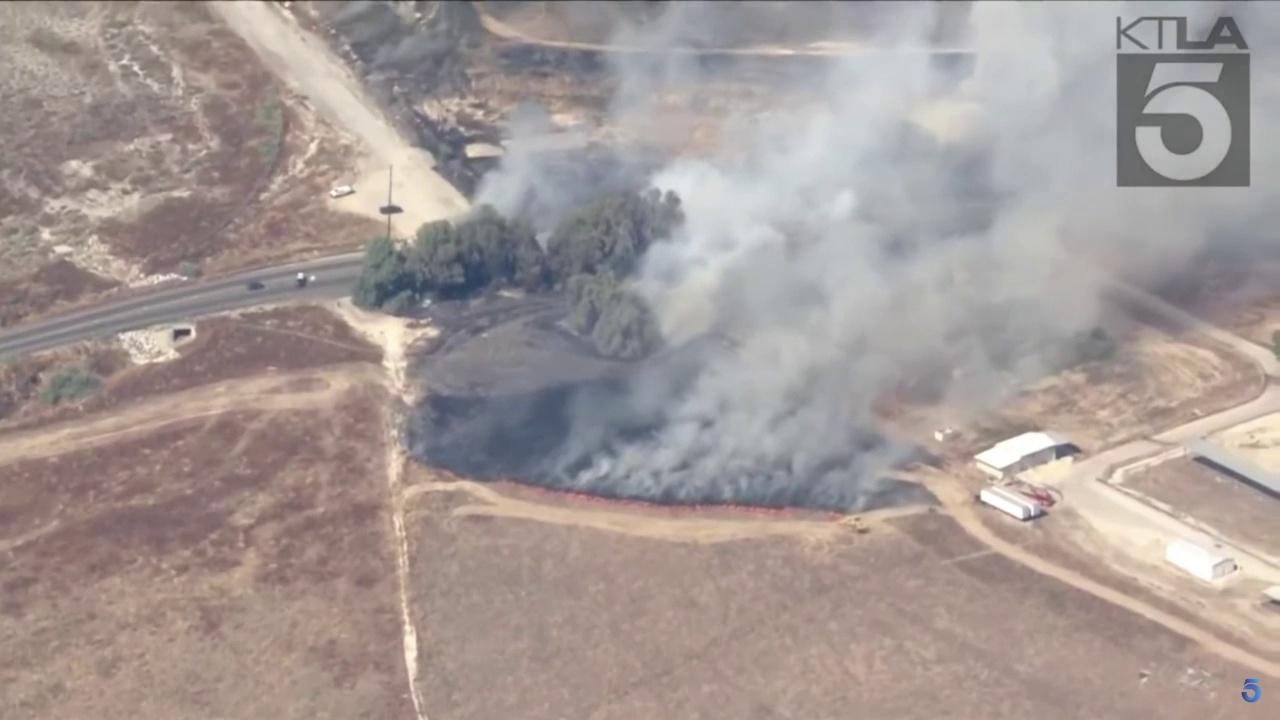fire: (494, 481, 845, 519)
smoke: (470, 0, 1280, 517)
